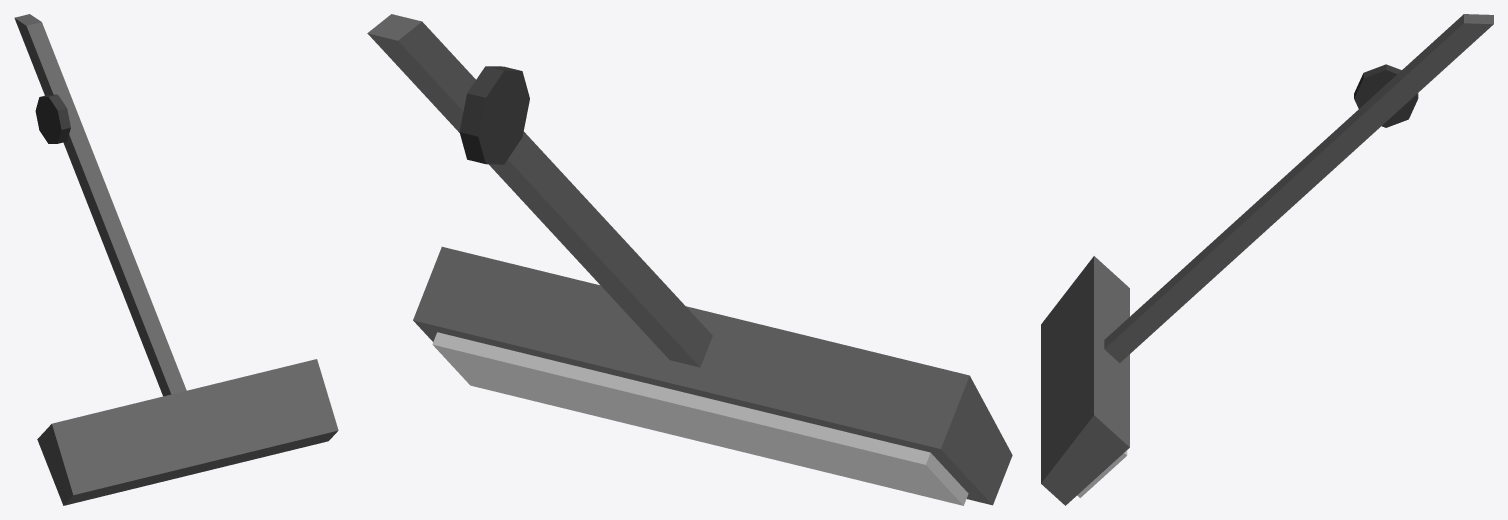
The model's file is Table_Lamp_1_Ac.obj.
The picture shows the model from 3 angles, left to right: view 1: azimuth 30°, elevation 25°; view 2: azimuth 150°, elevation 25°; view 3: azimuth 270°, elevation 25°; orthographic projection. The views are drawn at different scales.
Visible parts, largest first — view 1: Table_Lamp_1_Ac; view 2: Table_Lamp_1_Ac; view 3: Table_Lamp_1_Ac.
Boxes of the visible parts, x1=… form: Table_Lamp_1_Ac: x1=14, y1=14, x2=338, y2=505; Table_Lamp_1_Ac: x1=367, y1=14, x2=1012, y2=505; Table_Lamp_1_Ac: x1=1041, y1=14, x2=1493, y2=505.
Bounding box in the file's own units: 0.1494 × 0.1782 × 0.1794.
